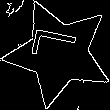L_E: (30, 33, 87, 74)
